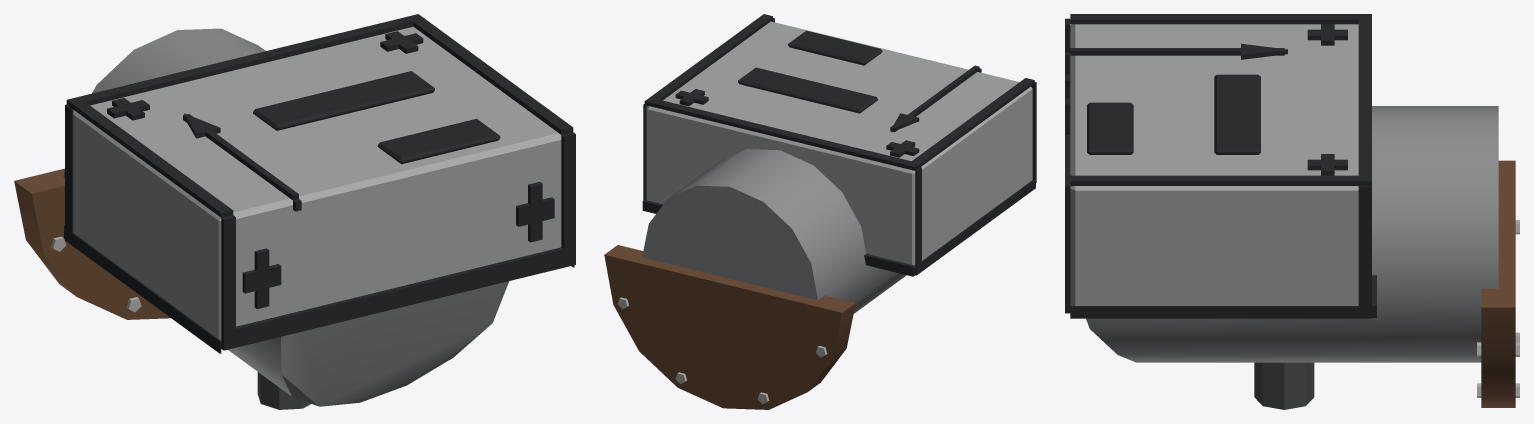
Rendered from top-up-valve.glb.
3 views of the same model, side by side, from view 1: azimuth 30°, elevation 25°; view 2: azimuth 150°, elevation 25°; view 3: azimuth 270°, elevation 25° (orthographic). The views are drawn at different scales.
Parts seen in each view (by area): view 1: body; view 2: body; view 3: body.
Boxes of the visible parts, x1,y1,x2,y2 form: body: [14, 14, 575, 409]; body: [604, 14, 1036, 409]; body: [1065, 14, 1519, 409].
Size of the model in its own units: 0.932 by 0.776 by 1.06.
